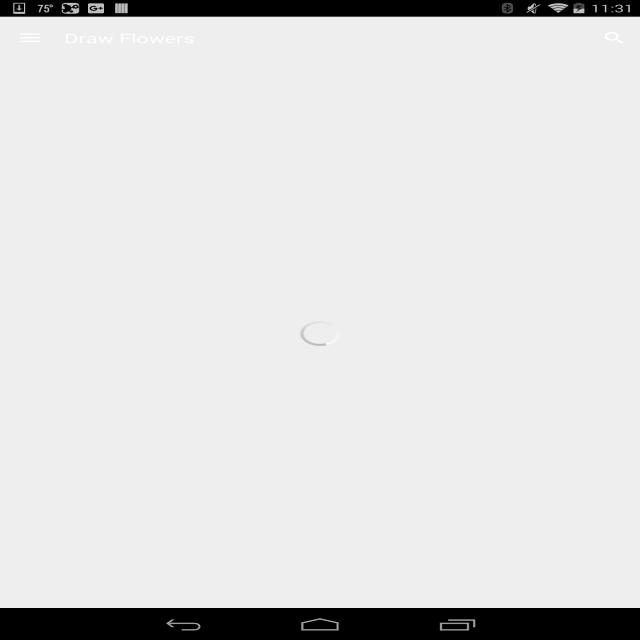Button: (222, 406, 316, 472), (324, 406, 418, 472), (426, 406, 520, 472), (222, 352, 409, 376), (427, 352, 614, 376)
ImageButton: (0, 17, 60, 59)
ImageView: (0, 59, 640, 254), (26, 270, 196, 377), (332, 406, 411, 455), (434, 406, 513, 455), (60, 30, 224, 46), (26, 566, 51, 582), (222, 312, 239, 323), (288, 464, 297, 469)
TextView: (0, 490, 640, 537), (77, 584, 614, 640), (222, 270, 614, 295), (77, 566, 614, 584), (222, 295, 406, 309), (589, 22, 640, 54), (324, 455, 418, 472), (426, 455, 520, 472), (120, 455, 213, 472), (526, 380, 614, 392), (245, 311, 316, 325), (250, 415, 288, 437), (240, 455, 285, 472), (142, 443, 192, 452), (159, 420, 173, 440)
